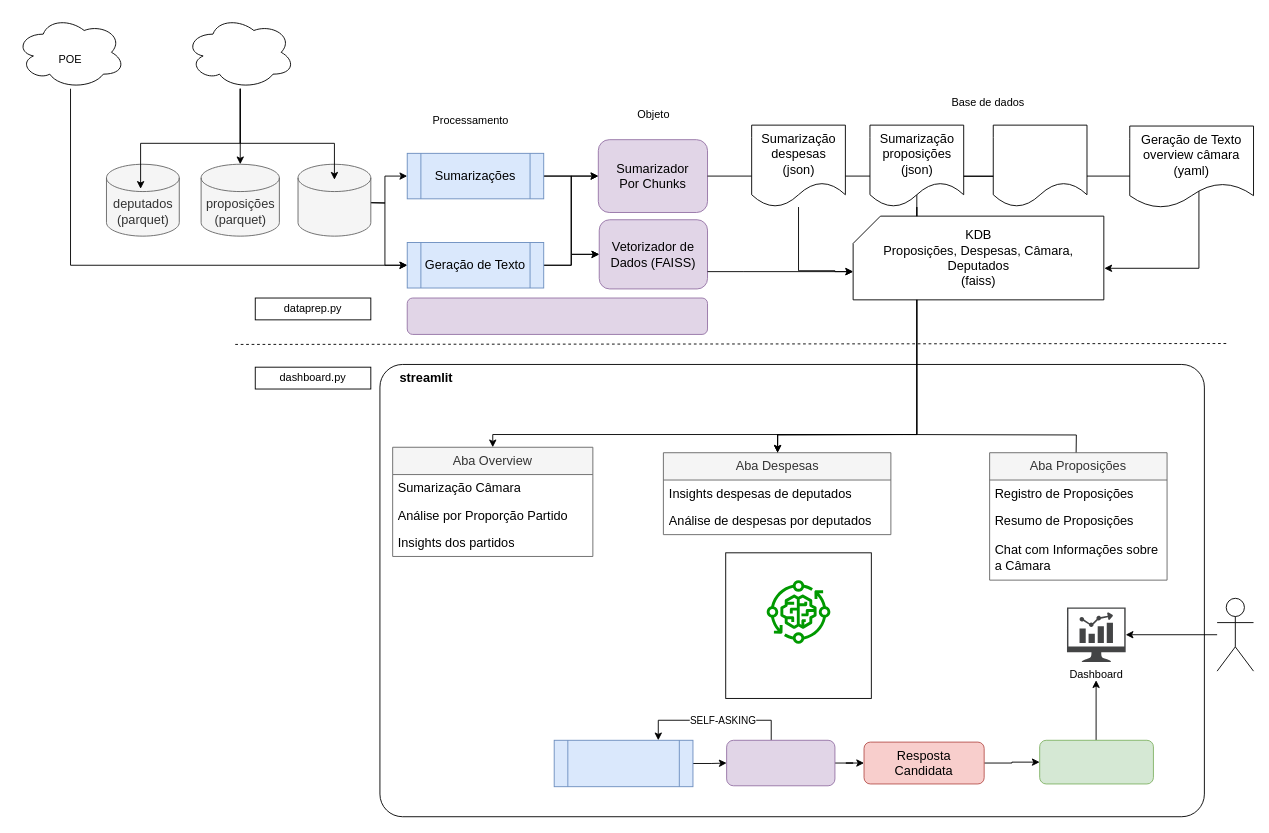
Some shapes in this 1269 by 833 pixel diagram are drawn without their labels. The centre of each missing label's shape, as x and y in pixels:
Agente QA: the point at 798,611
Busca Vetorial: the point at 623,763
Dados Abertos API: the point at 240,52
despesas (parquet): the point at 334,199
LLM Gemini: the point at 780,762
LLM Gemini/GPT: the point at 557,315
Resposta Usuário: the point at 1096,761
Sumarização câmara (json): the point at 1039,165
Usuário: the point at 1235,634
